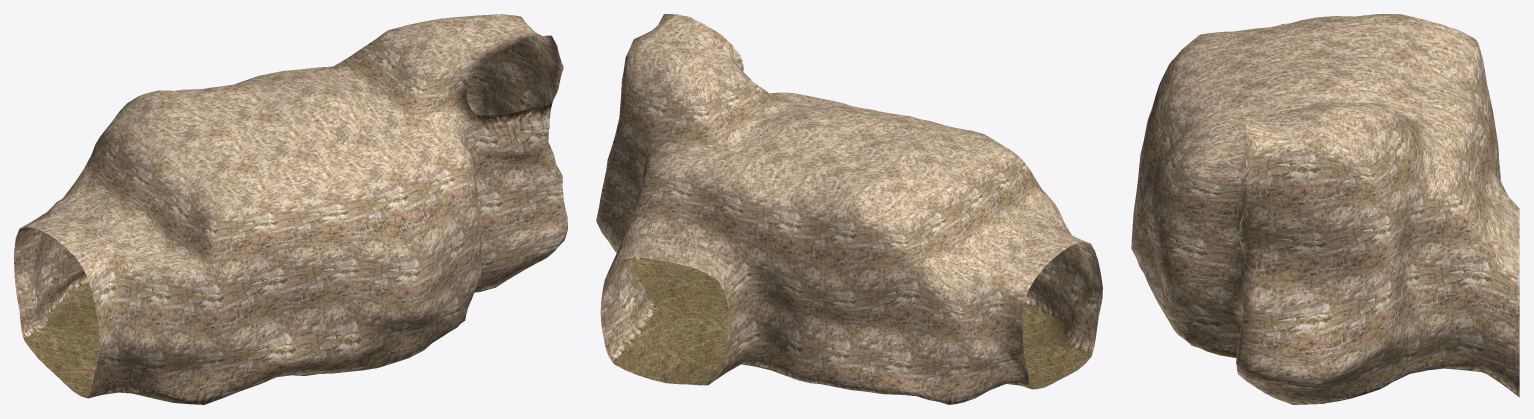
The model's file is thm_all_cave_s01_r9_mesh_r9.fbx.
3 views of the same model, side by side, from view 1: azimuth 30°, elevation 25°; view 2: azimuth 150°, elevation 25°; view 3: azimuth 270°, elevation 25° (orthographic). The views are drawn at different scales.
Visible parts, largest first — view 1: mesh_node; view 2: mesh_node; view 3: mesh_node.
Part boxes in pixels (x1,y1,x2,y2): mesh_node: [14, 14, 567, 404]; mesh_node: [596, 14, 1102, 404]; mesh_node: [1131, 14, 1519, 404].
Bounding box in the file's own units: 80.39 × 43.77 × 50.19.
